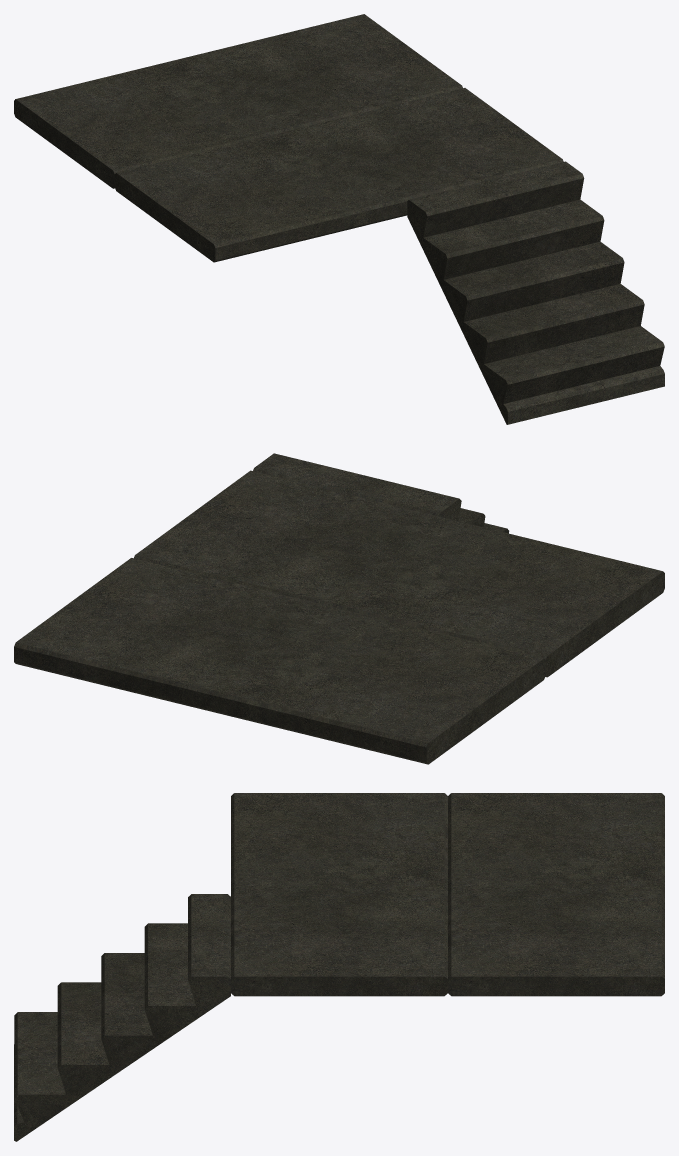
The model's file is stairs_2.glb.
3 renders of one model, top to bottom at view 1: azimuth 30°, elevation 25°; view 2: azimuth 150°, elevation 25°; view 3: azimuth 270°, elevation 25°, orthographic. The views are drawn at different scales.
Visible parts, largest first — view 1: stairs_2; view 2: stairs_2; view 3: stairs_2.
Part boxes in pixels (left/top/right/bottom): stairs_2: left=14, top=14, right=664, bottom=424; stairs_2: left=14, top=453, right=664, bottom=764; stairs_2: left=14, top=793, right=664, bottom=1141.
Bounding box in the file's own units: 4 × 1.68 × 6.
1 material, 1 textured.
